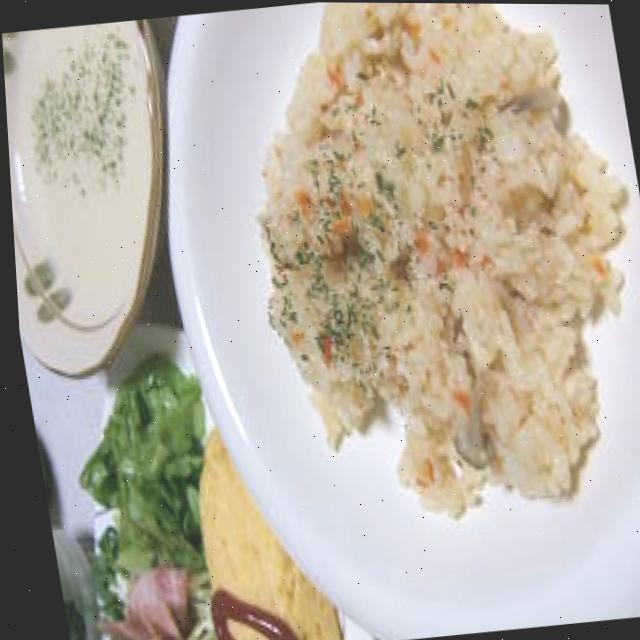米饭主食: (188, 1, 640, 640)
